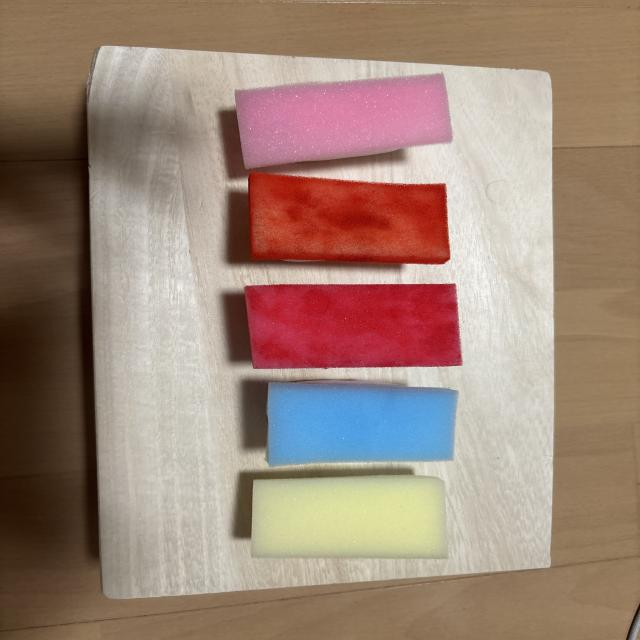ika: (267, 382, 458, 466)
maguro: (246, 284, 462, 368)
salmon: (249, 172, 450, 264)
tai: (235, 73, 452, 169)
tamago: (251, 475, 447, 558)
